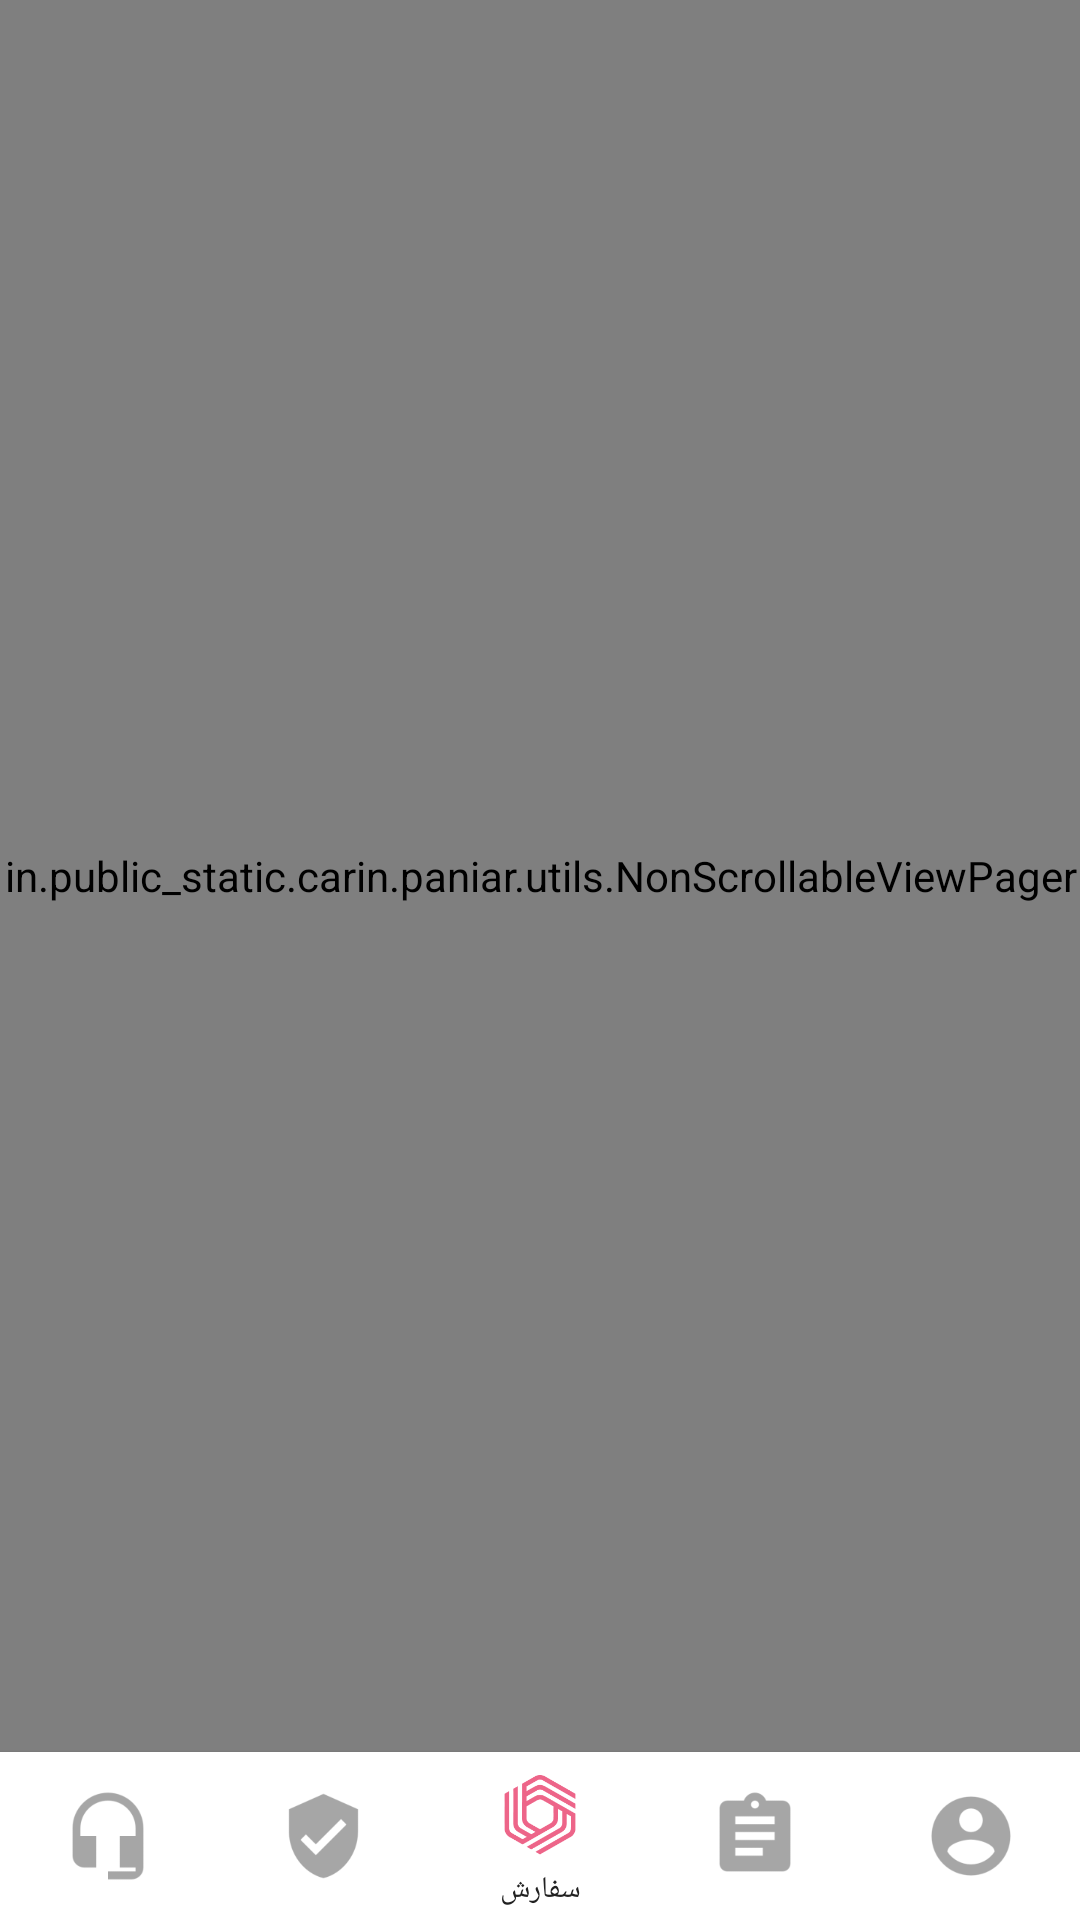

Where icons sit on this 1080 × 1920 app screen, as (x1,y1,x2,y2):
armor: (289,1794,358,1878)
list: (719,1792,791,1872)
profile: (931,1796,1011,1876)
support: (72,1792,144,1880)
